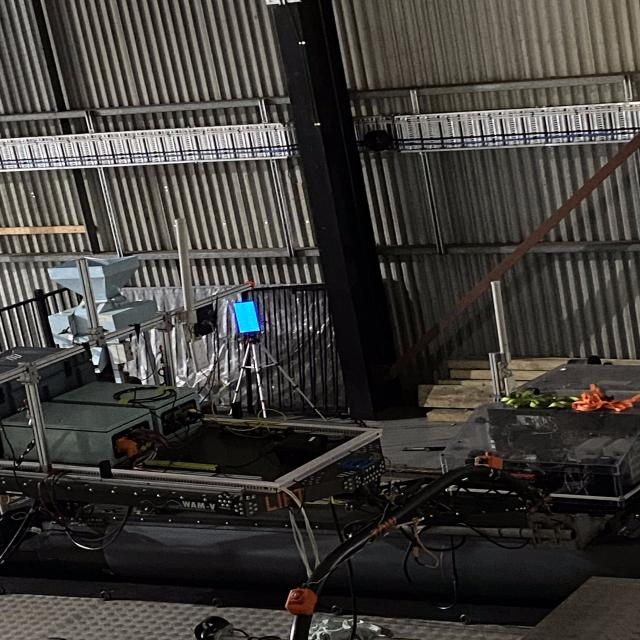matrix: (228, 299, 264, 340)
